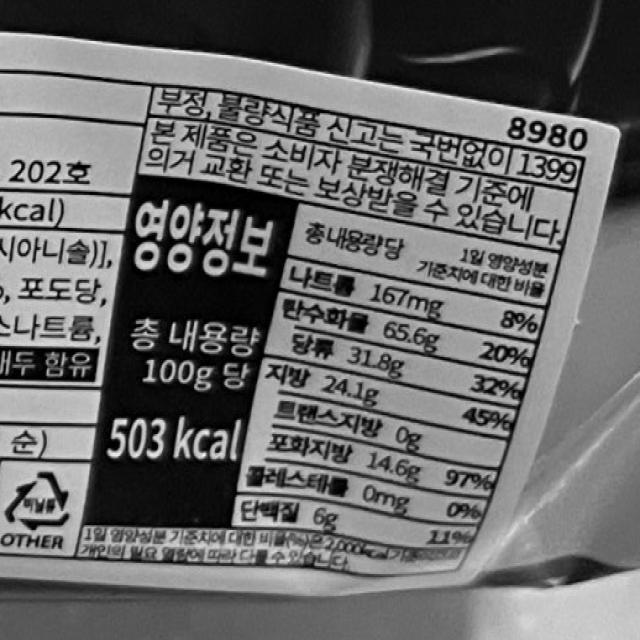Nutrition Label: (72, 156, 583, 590)
